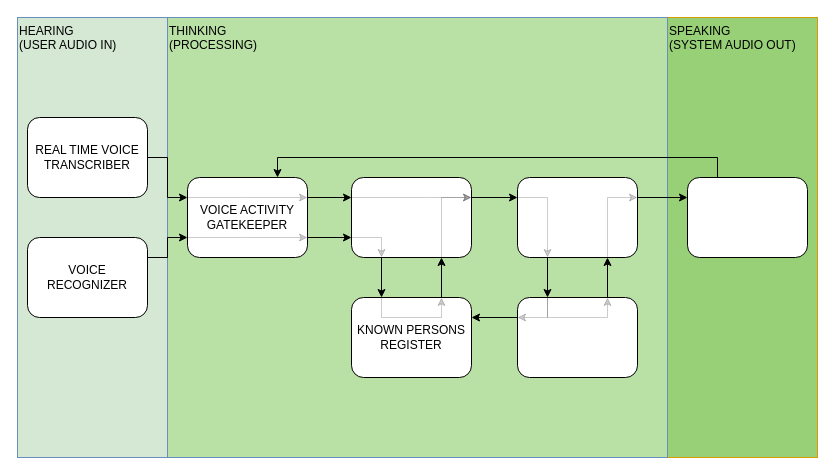
Some shapes in this 835 by 475 pixel diagram are drawn without their labels. The shapes that lost their labels are listed below. From the top down, each one's centre as x and y in pixels, then its label:
At (x=411, y=217): "TRANSCRIPTION FORMATER".
At (x=577, y=217): "LLM RESPONDER".
At (x=747, y=217): "TEXT TO SPEECH CONVERTER".
At (x=577, y=337): "MEMORY ARCHIVER".
